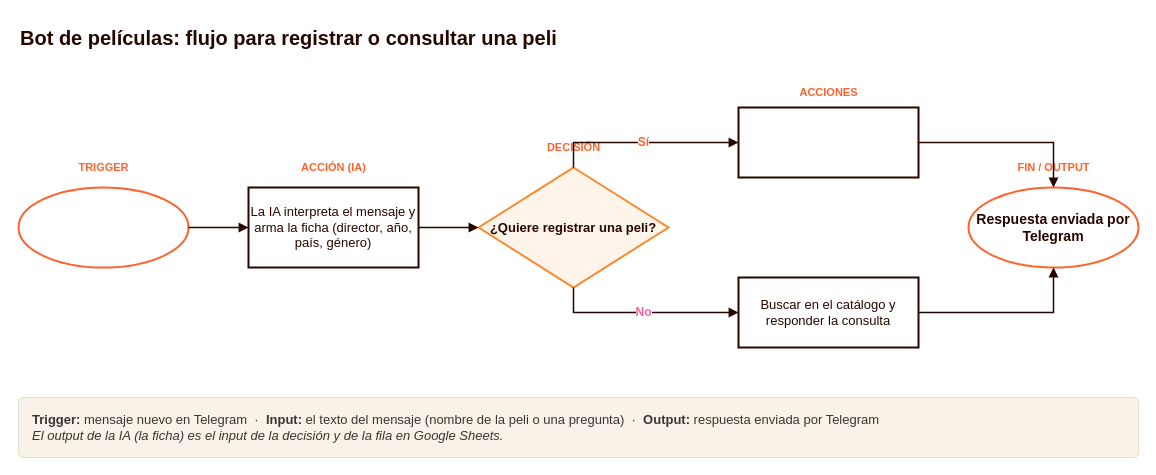
Some shapes in this 1156 by 475 pixel diagram are drawn without their labels. Here are the shapes that lost their labels. From the top down, the centre of each, then its label:
pixel 828 142: Guardar la fila en Google Sheets
pixel 103 227: Llega un mensaje por Telegram
